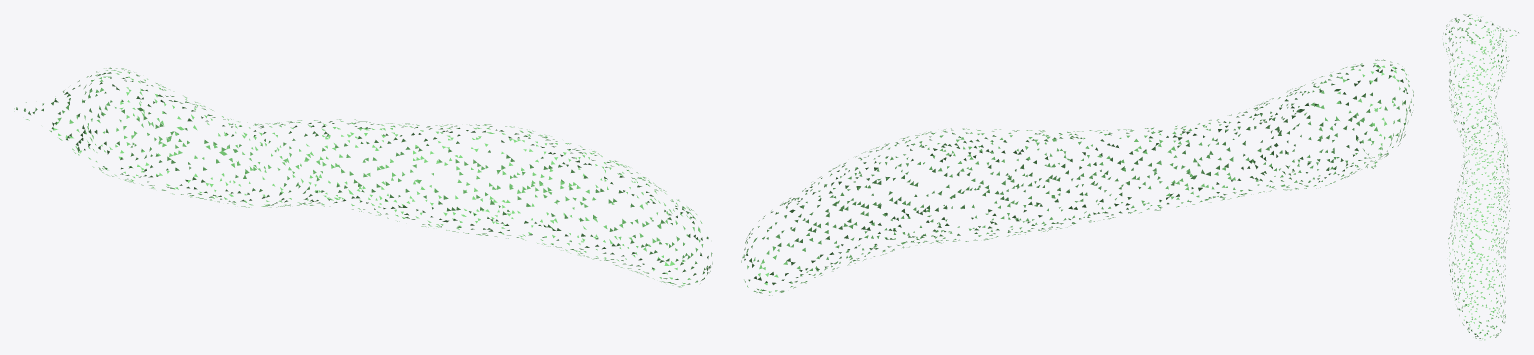
Rendered from morph_017.glb.
The picture shows the model from 3 angles, left to right: view 1: azimuth 30°, elevation 25°; view 2: azimuth 150°, elevation 25°; view 3: azimuth 270°, elevation 25°; orthographic projection. The views are drawn at different scales.
Size of the model in its own units: 113 by 59.3 by 23.18.
